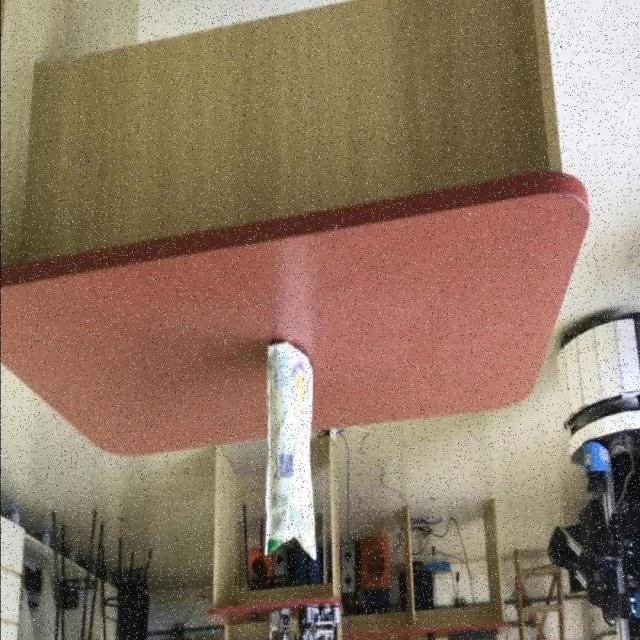CornFlakes: (264, 339, 317, 559)
